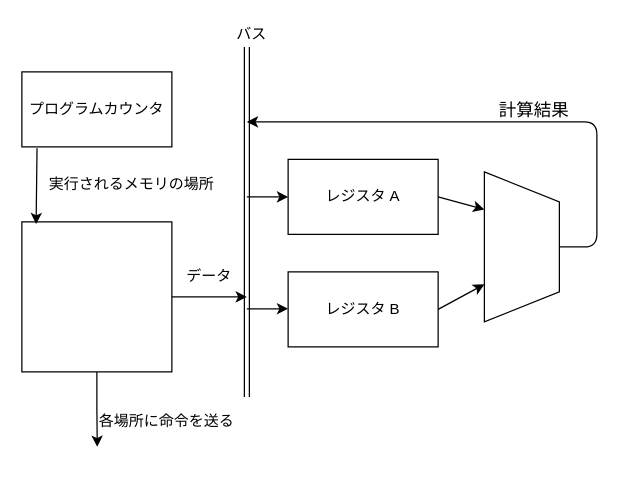
This 629x479 diagram has some shape labels left out. Each missing label, with the centre of its shape:
"メモリ (Read Only Memory)" belongs at (x=96, y=296).
"全加算器" belongs at (x=521, y=246).
